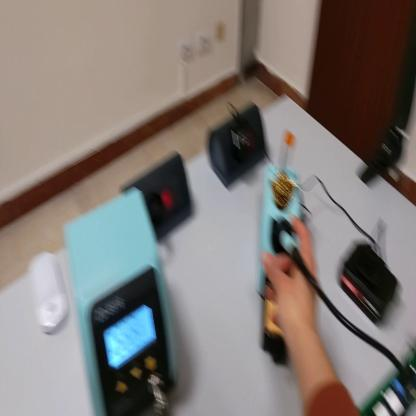electric screwdriver battery: (342, 242, 401, 326)
hand: (261, 248, 316, 339)
high voltage board: (361, 344, 416, 415)
socket: (123, 147, 192, 241), (208, 105, 268, 193)
welder base: (257, 133, 307, 363)
welder probe tip: (276, 216, 321, 289)
welder station: (65, 184, 180, 414)
